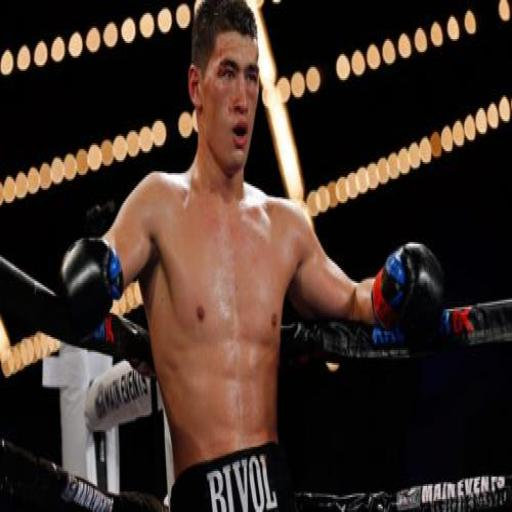boxing: (73, 18, 442, 512)
